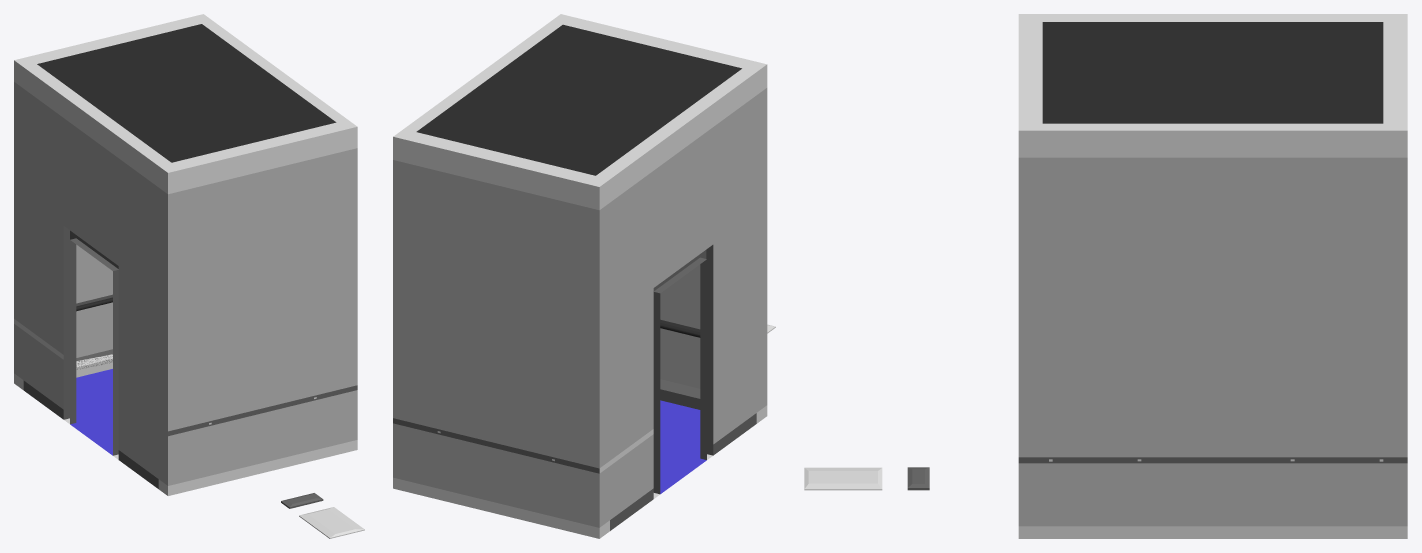
File: ElevatorBody09.fbx
The picture shows the model from 3 angles, left to right: view 1: azimuth 30°, elevation 25°; view 2: azimuth 150°, elevation 25°; view 3: azimuth 270°, elevation 25°; orthographic projection. The views are drawn at different scales.
Parts seen in each view (by area): view 1: Elevator, Keypad; view 2: Elevator; view 3: Elevator, Keypad.
Boxes of the visible parts, x1,y1,x2,y2 form: Elevator: (14, 14, 357, 495); Keypad: (299, 507, 364, 538); Elevator: (393, 14, 767, 538); Elevator: (1018, 14, 1407, 538); Keypad: (804, 467, 882, 490).
Bounding box in the file's own units: 270 × 440 × 589.
